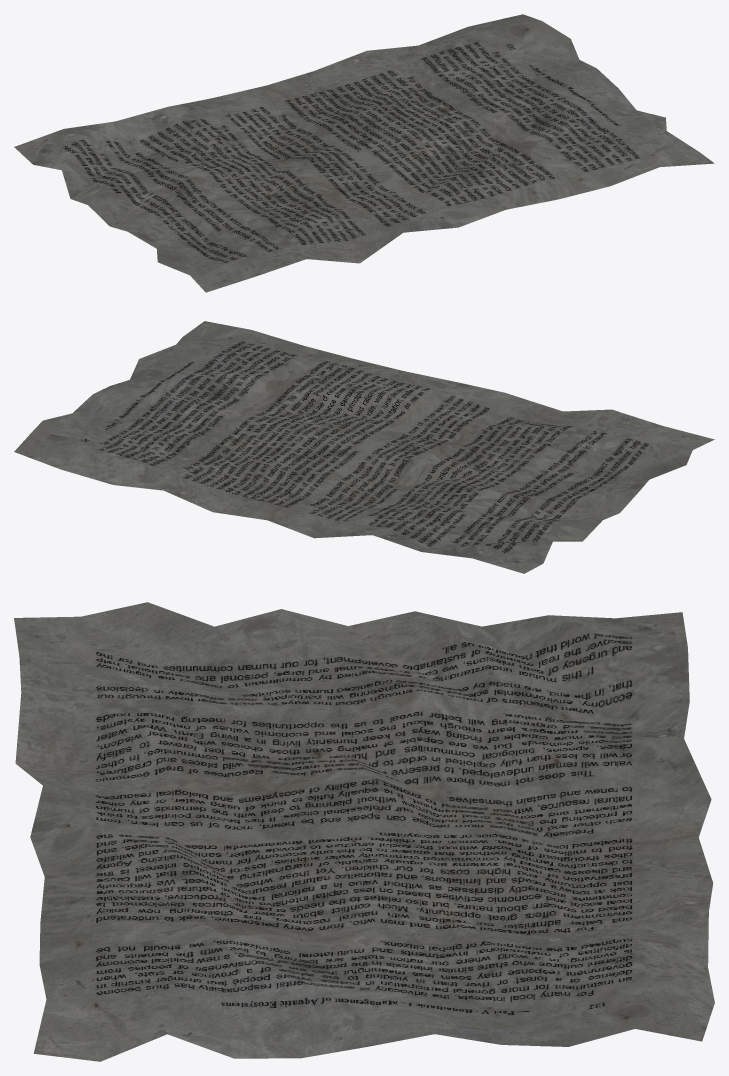
File: TrashPaper_03.FBX
3 renders of one model, top to bottom at view 1: azimuth 30°, elevation 25°; view 2: azimuth 150°, elevation 25°; view 3: azimuth 270°, elevation 25°, orthographic. The views are drawn at different scales.
Visible parts, largest first — view 1: TrashPaper03; view 2: TrashPaper03; view 3: TrashPaper03.
Boxes of the visible parts, x1,y1,x2,y2 form: TrashPaper03: [14, 14, 714, 292]; TrashPaper03: [14, 321, 714, 573]; TrashPaper03: [14, 602, 714, 1061].
Bounding box in the file's own units: 81.81 × 3.65 × 53.67.
